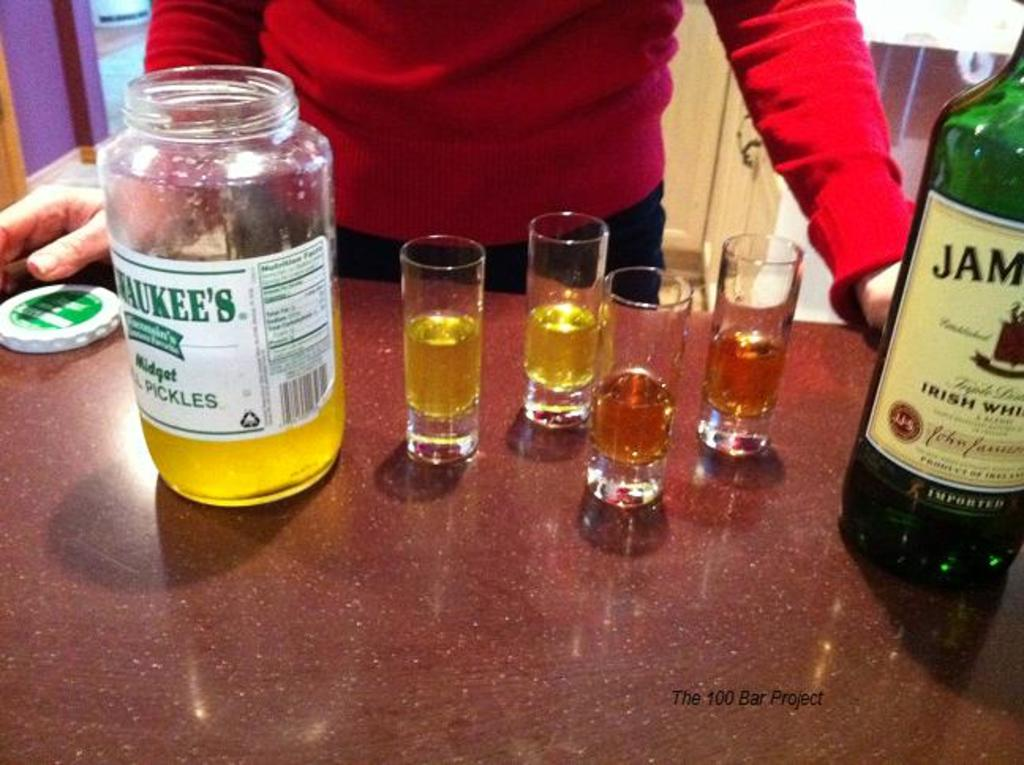Beer: (845, 7, 1022, 605), (715, 229, 812, 453), (524, 211, 619, 431), (587, 262, 676, 494), (402, 233, 478, 464)
